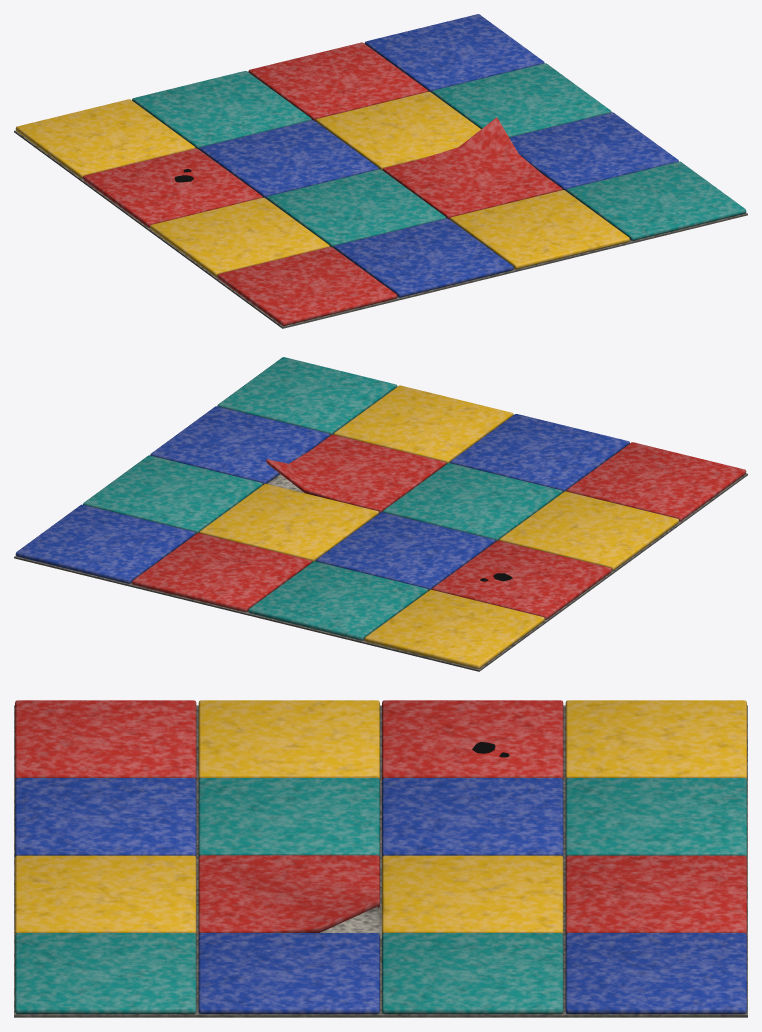
The model's file is padded_floor.fbx.
3 views of the same model, one above another, from view 1: azimuth 30°, elevation 25°; view 2: azimuth 150°, elevation 25°; view 3: azimuth 270°, elevation 25° (orthographic). The views are drawn at different scales.
Parts seen in each view (by area): view 1: Body; view 2: Body; view 3: Body.
Part boxes in pixels (bbox=[...]): Body: bbox=[14, 14, 747, 328]; Body: bbox=[14, 357, 747, 671]; Body: bbox=[14, 700, 747, 1017].
Bounding box in the file's own units: 32 × 1.89 × 32.
Materials: 1 (1 with a texture image).
